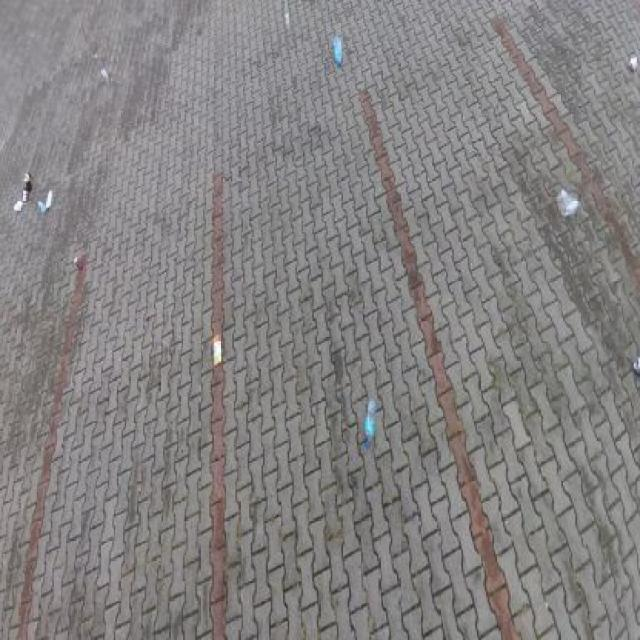Garbage: (556, 188, 580, 219), (94, 51, 112, 92), (363, 397, 376, 445), (212, 331, 222, 366), (333, 36, 343, 66), (284, 0, 290, 31), (628, 53, 637, 72), (22, 173, 31, 192), (46, 188, 53, 209), (74, 257, 83, 272), (37, 201, 46, 215), (14, 199, 23, 211), (634, 355, 639, 375), (26, 181, 33, 193), (23, 188, 27, 205), (18, 192, 22, 196)
